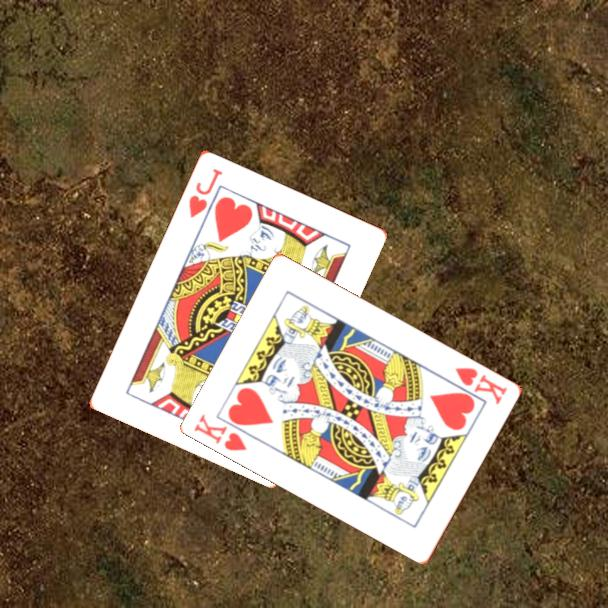h11: (185, 164, 226, 221)
h13: (191, 410, 250, 454), (452, 364, 510, 407)
